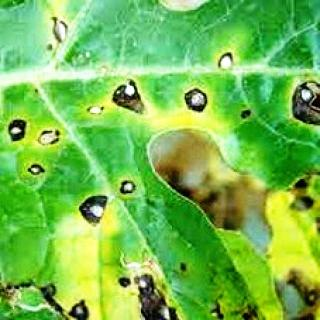leaf spot: (4, 38, 320, 320)
